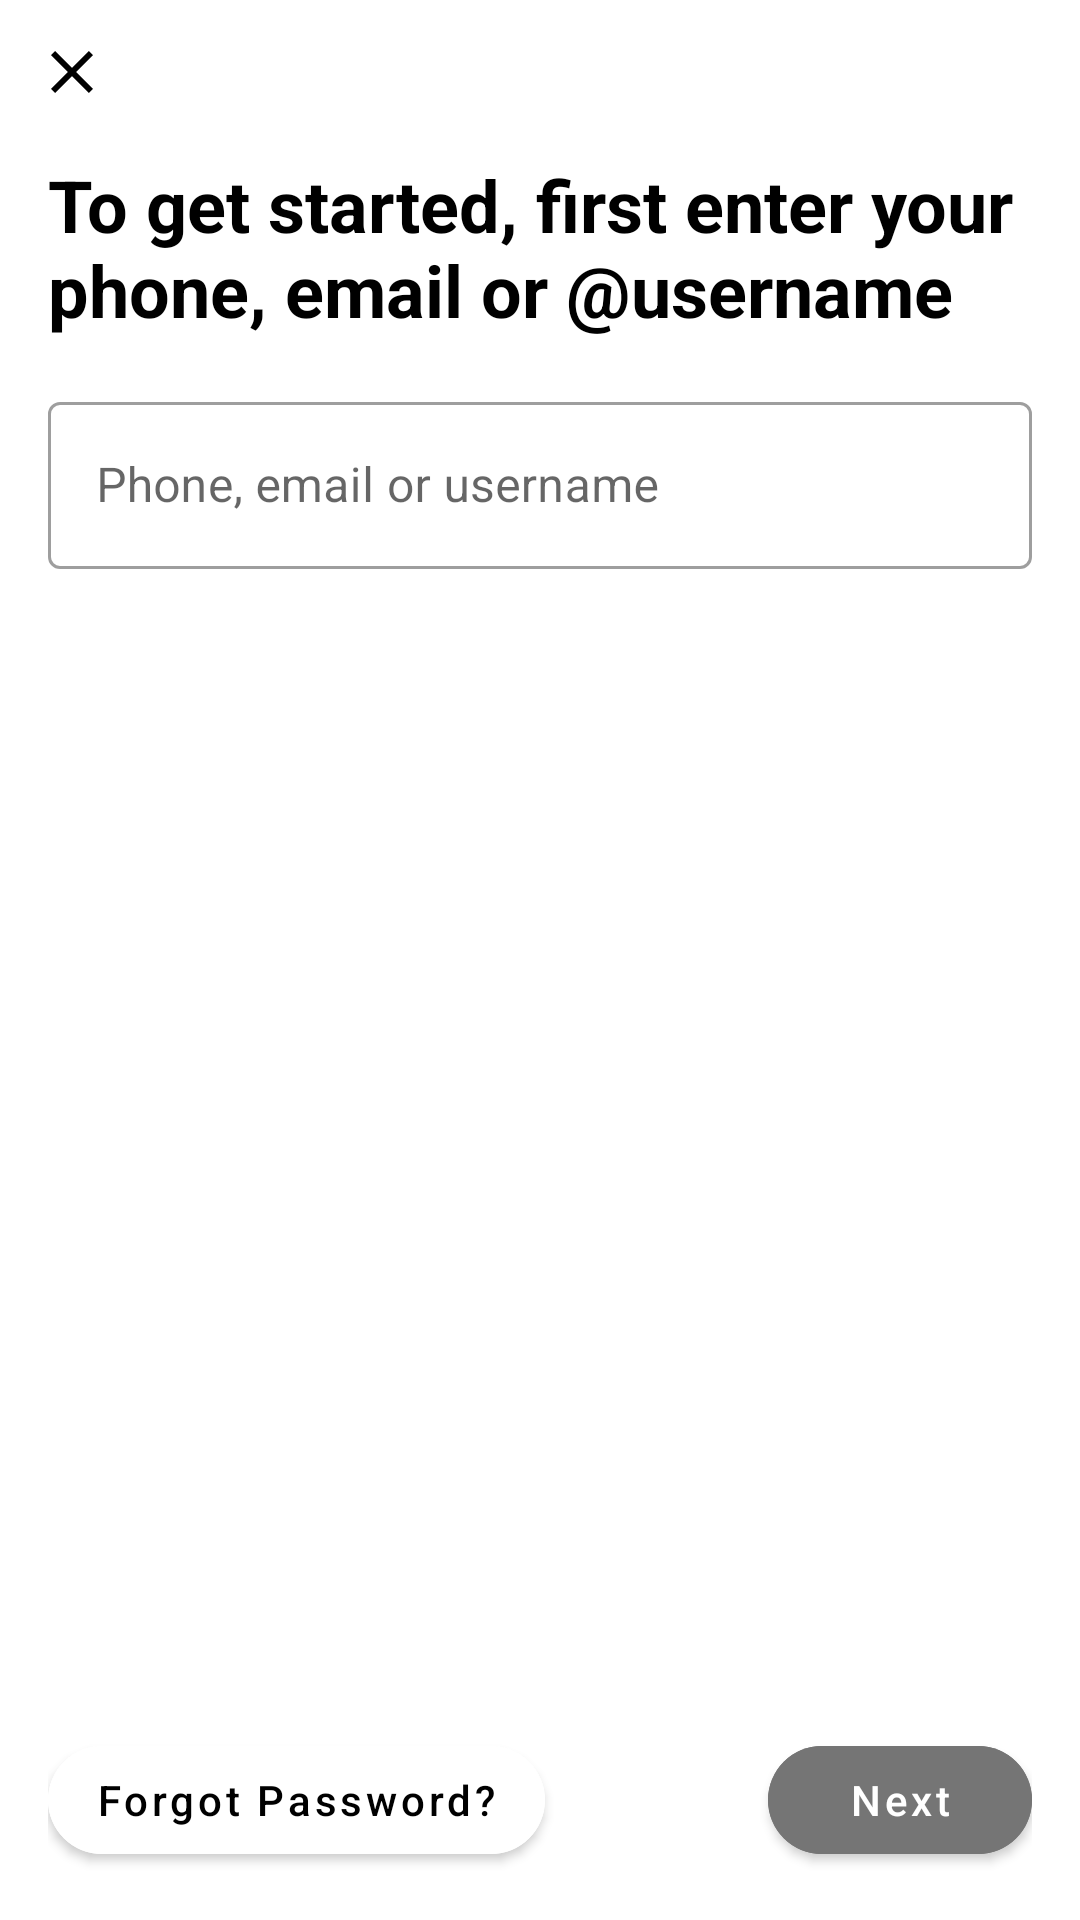

Icons on this 1080x1920 Android screen, each with its box as (x1, y1, x2, y2):
cancel: (51, 51, 93, 93)
